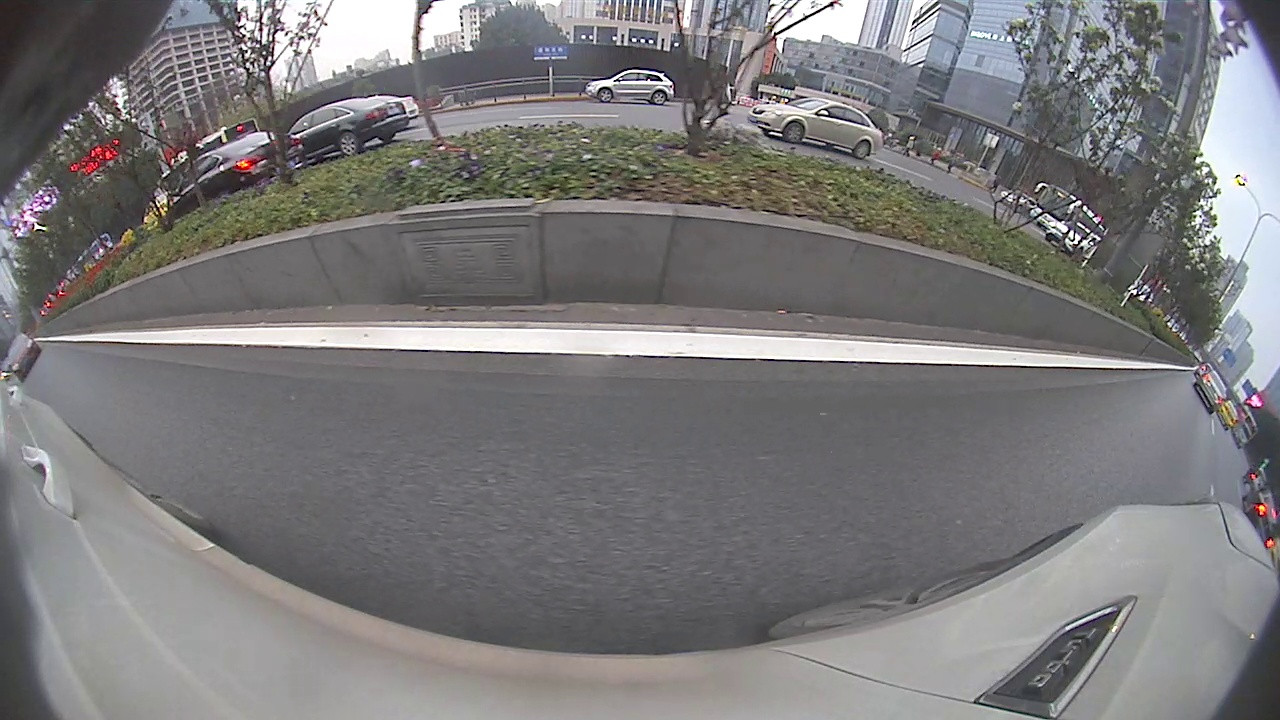car: (748, 96, 886, 164), (583, 66, 676, 111), (6, 333, 41, 383), (1193, 369, 1229, 416)
front: (783, 122, 805, 144), (598, 88, 614, 104)
rear: (336, 131, 362, 158), (851, 139, 872, 162), (653, 89, 668, 105)
